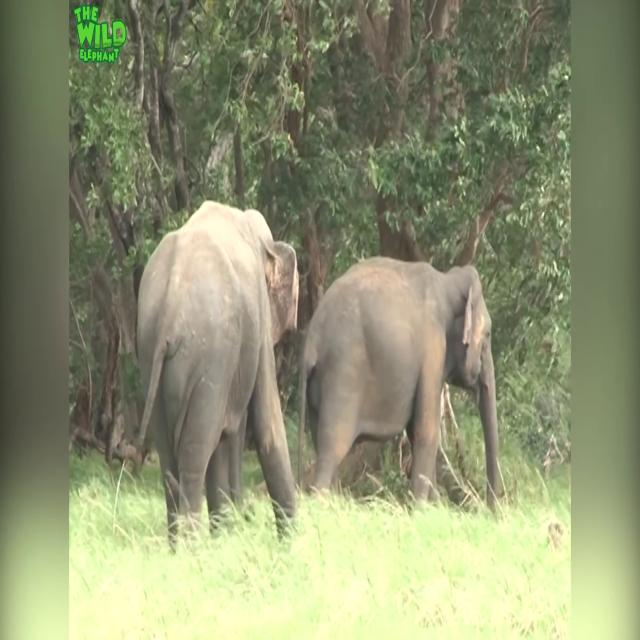Elephant: (134, 198, 300, 554), (297, 255, 506, 514)
